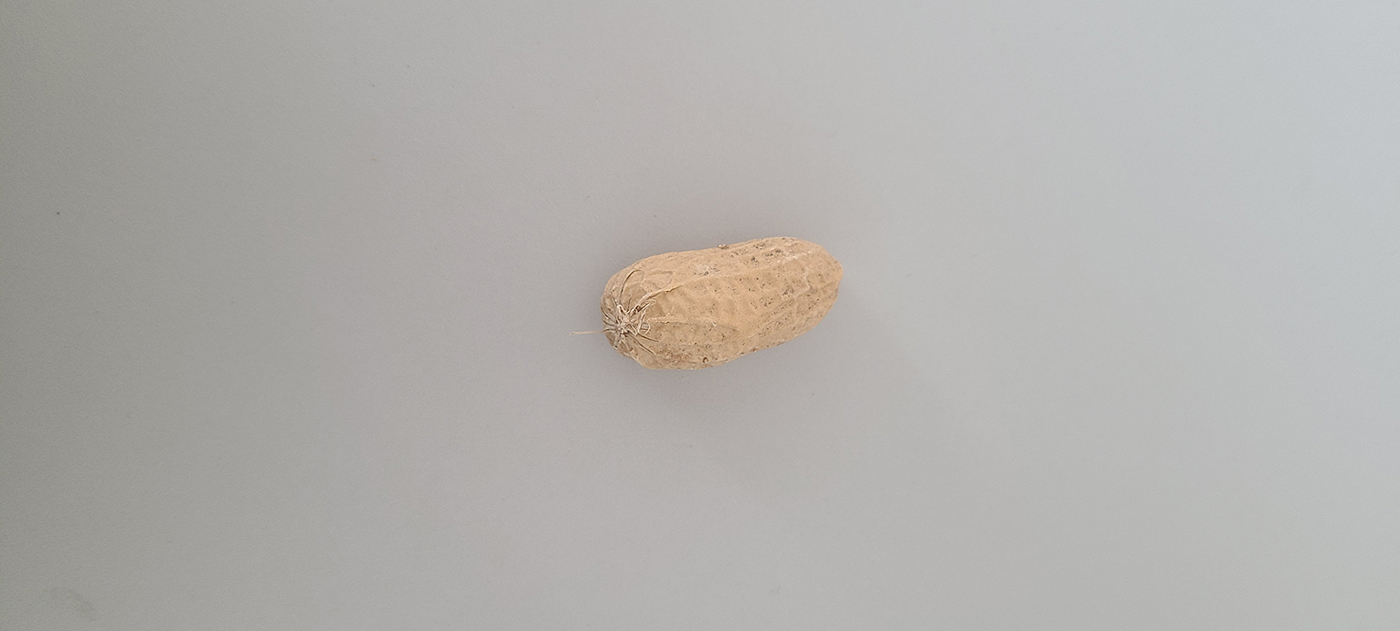h: (600, 236, 844, 372)
